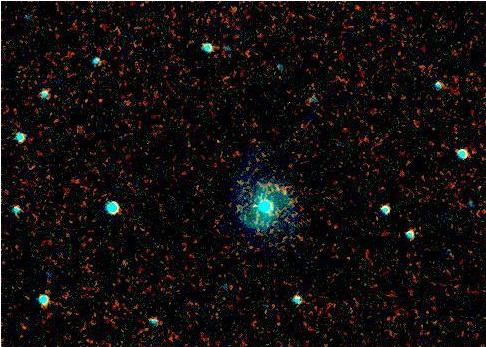star: (241, 190, 271, 220)
